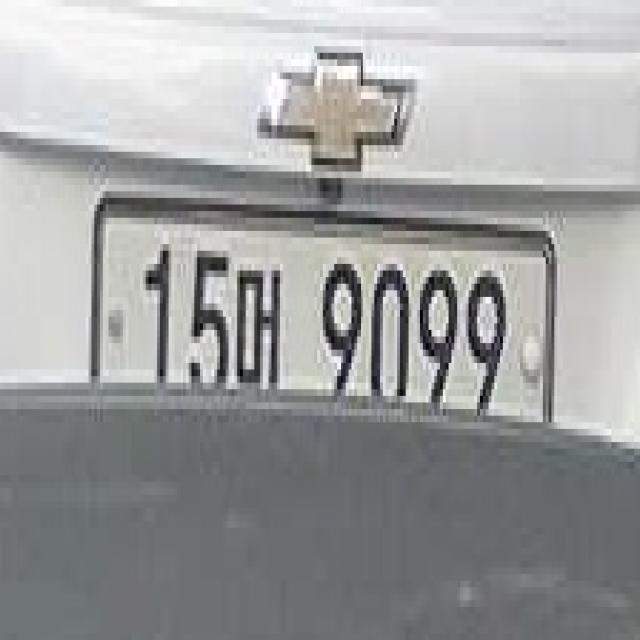0: (366, 257, 414, 416)
1: (140, 231, 180, 402)
5: (186, 231, 234, 402)
9: (314, 244, 366, 409), (463, 264, 511, 442), (417, 264, 463, 429)
license_plate: (86, 185, 568, 468)
meo: (234, 244, 286, 403)
